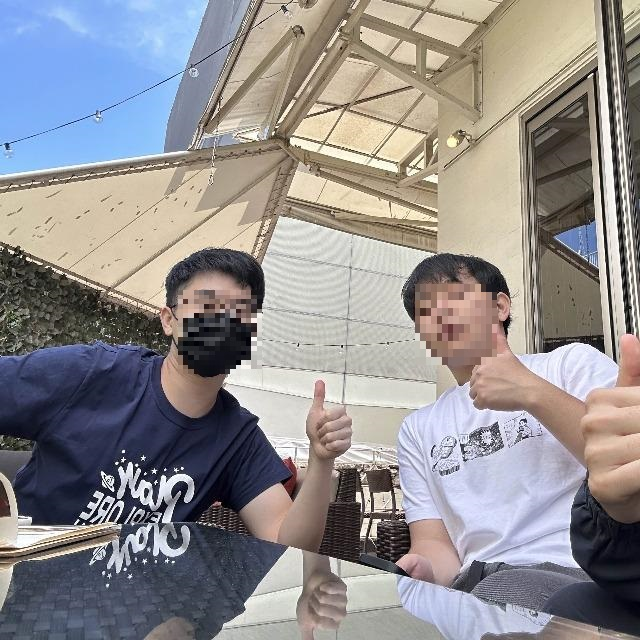NoHelmet: (164, 246, 270, 376), (402, 253, 510, 366)
